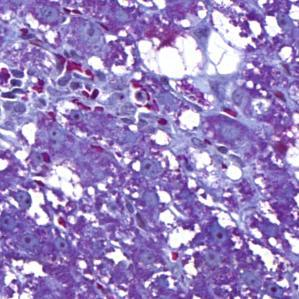ballooning: (201, 8, 286, 79), (134, 25, 206, 82)
